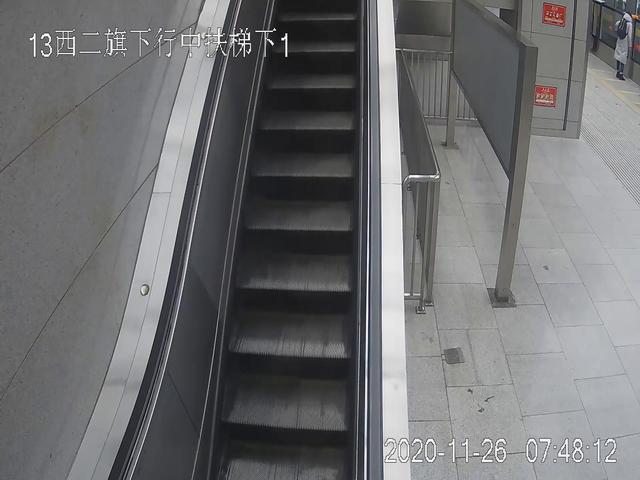person: (612, 11, 634, 80)
